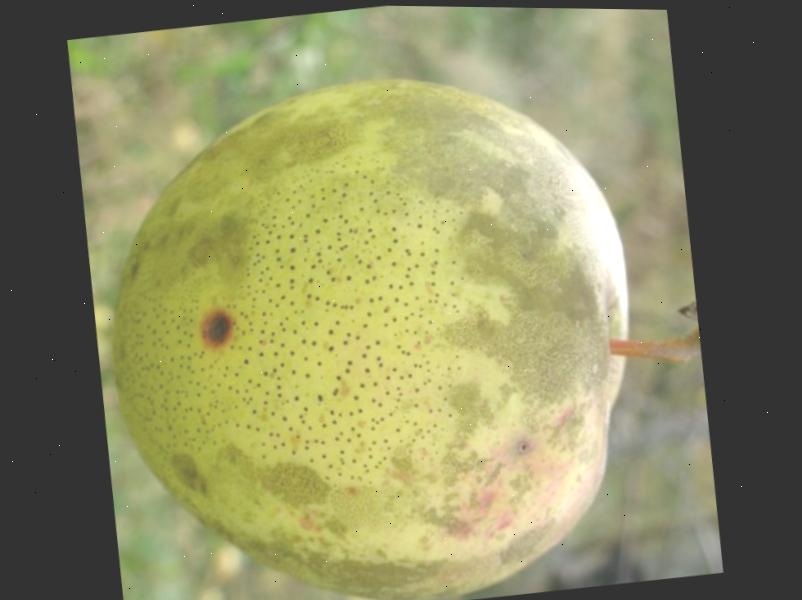BLOTCH: (68, 38, 705, 600)
